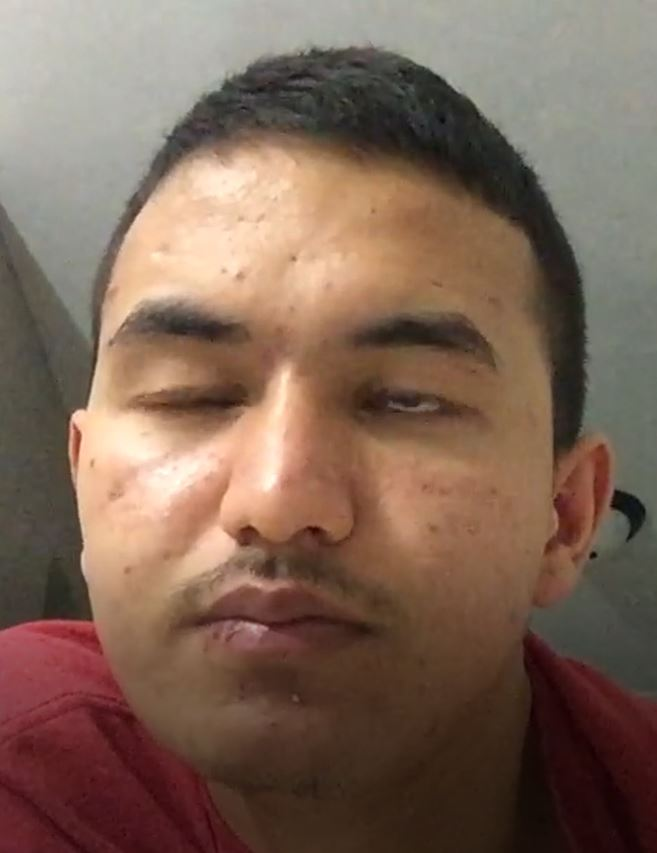Sleeping: (88, 335, 537, 452)
